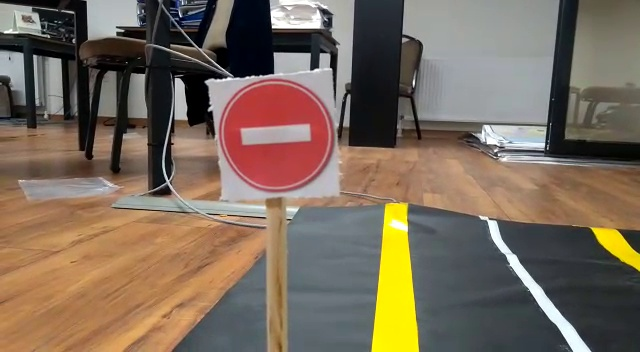girisi_olmayan_yol: (209, 80, 333, 194)
